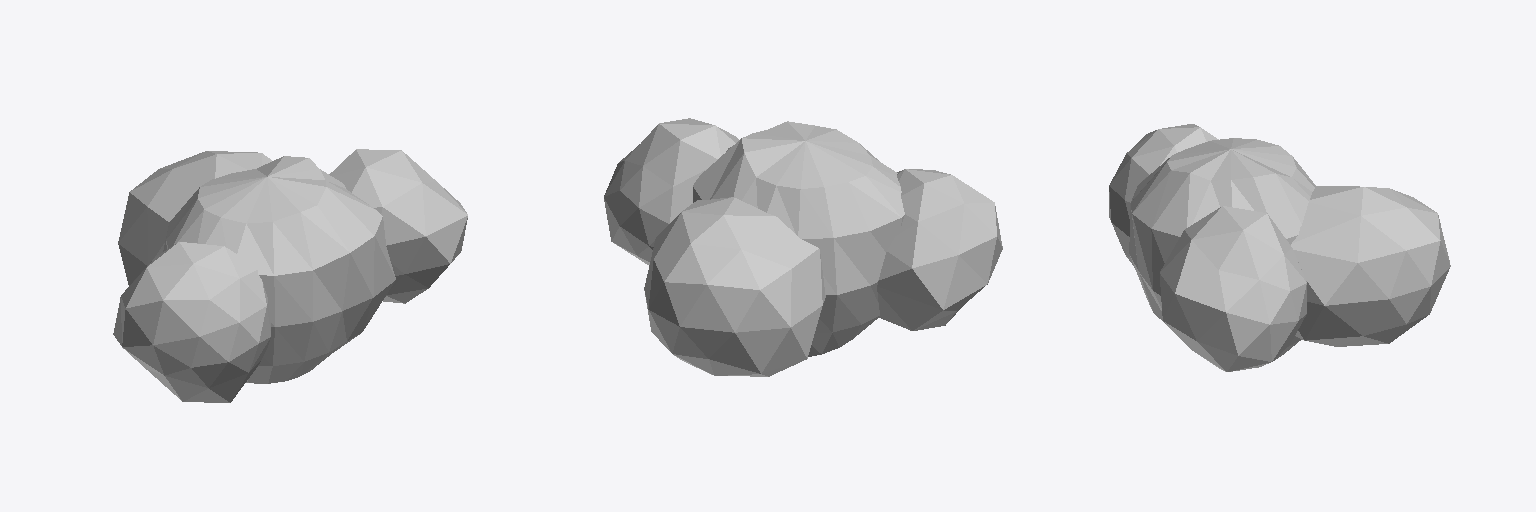
File: leaves.obj
The picture shows the model from 3 angles: view 1: azimuth 30°, elevation 25°; view 2: azimuth 150°, elevation 25°; view 3: azimuth 270°, elevation 25°; orthographic projection.
Visible parts, largest first — view 1: leaves_Icosphere.002; view 2: leaves_Icosphere.002; view 3: leaves_Icosphere.002.
Part boxes in pixels (bbox=[...]): leaves_Icosphere.002: bbox=[113, 149, 467, 402]; leaves_Icosphere.002: bbox=[604, 118, 1002, 376]; leaves_Icosphere.002: bbox=[1109, 124, 1450, 371].
Size of the model in its own units: 6.8 by 3.63 by 5.6.